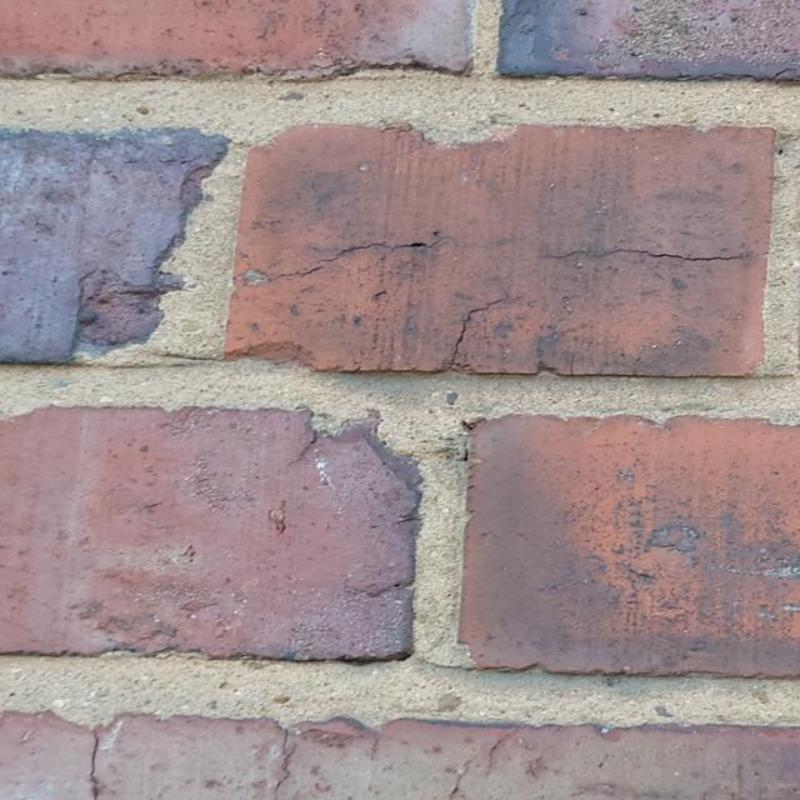crack: (233, 229, 459, 286), (445, 297, 504, 368), (545, 247, 767, 264), (272, 728, 290, 799), (90, 728, 100, 799)
